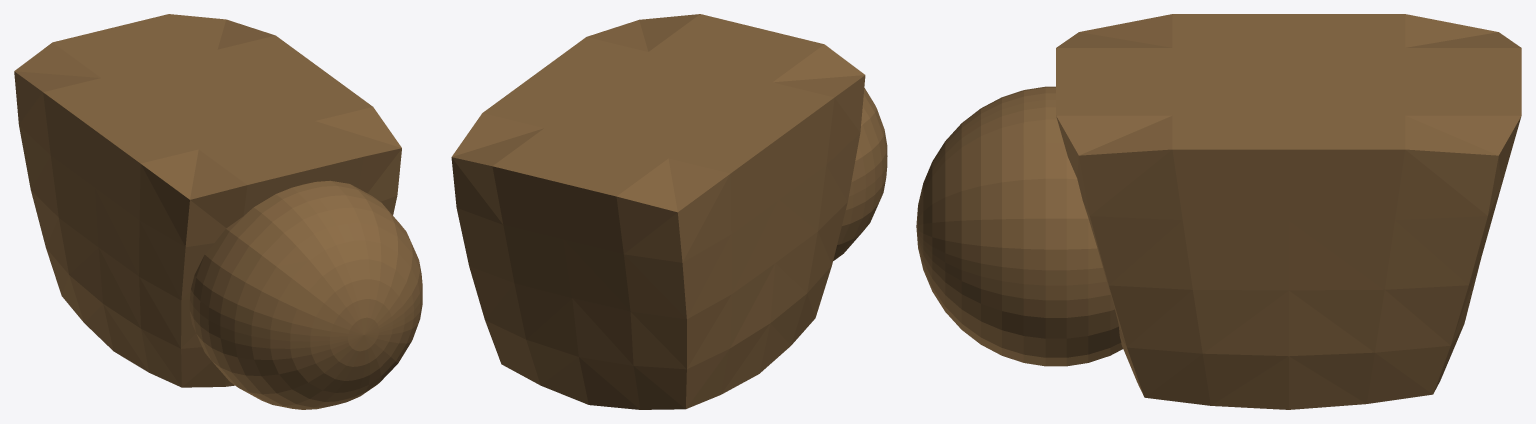
The model's file is LeftFingerJoint52y_joint_visu.dae.
The picture shows the model from 3 angles, left to right: view 1: azimuth 30°, elevation 25°; view 2: azimuth 150°, elevation 25°; view 3: azimuth 270°, elevation 25°; orthographic projection. The views are drawn at different scales.
Visible parts, largest first — view 1: node; view 2: node; view 3: node.
Part boxes in pixels (x1=…): node: x1=14, y1=14, x2=422, y2=409; node: x1=451, y1=14, x2=887, y2=409; node: x1=916, y1=14, x2=1521, y2=409.
Bounding box in the file's own units: 0.00871 × 0.00867 × 0.0164.
